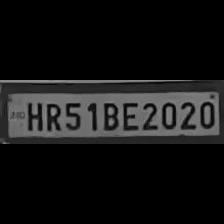0: (196, 99, 216, 129), (158, 98, 176, 130)
1: (84, 99, 100, 130)
2: (138, 99, 158, 131), (178, 98, 196, 130)
5: (61, 99, 83, 131)
B: (98, 99, 118, 131)
E: (120, 99, 138, 130)
H: (22, 99, 44, 131)
R: (42, 99, 62, 130)
